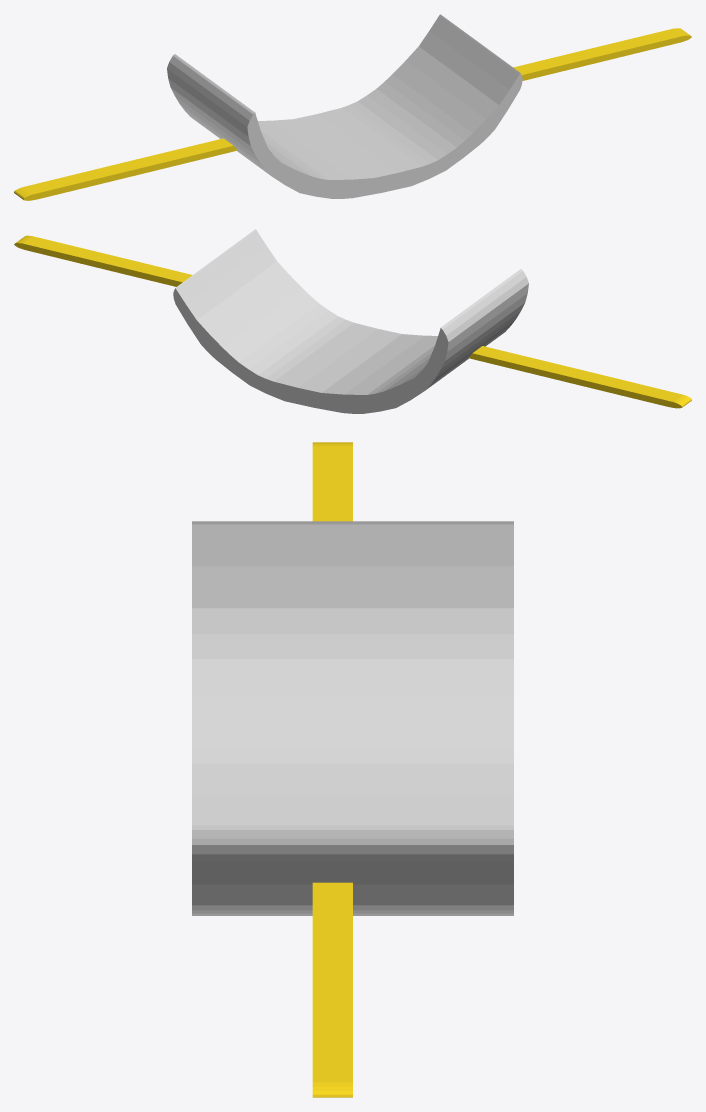
Rendered from tinker.obj.
The picture shows the model from 3 angles, top to bottom: view 1: azimuth 30°, elevation 25°; view 2: azimuth 150°, elevation 25°; view 3: azimuth 270°, elevation 25°; orthographic projection. The views are drawn at different scales.
Parts seen in each view (by area): view 1: group_0_16448250, group_0_16768282; view 2: group_0_16448250, group_0_16768282; view 3: group_0_16448250, group_0_16768282.
Part boxes in pixels (left/top/right/bottom): group_0_16448250: left=167, top=14, right=522, bottom=198; group_0_16768282: left=14, top=28, right=691, bottom=200; group_0_16448250: left=173, top=229, right=528, bottom=413; group_0_16768282: left=14, top=235, right=691, bottom=408; group_0_16448250: left=192, top=521, right=513, bottom=915; group_0_16768282: left=312, top=442, right=352, bottom=1097.
Bounding box in the file's own units: 38.32 × 6.11 × 8.
